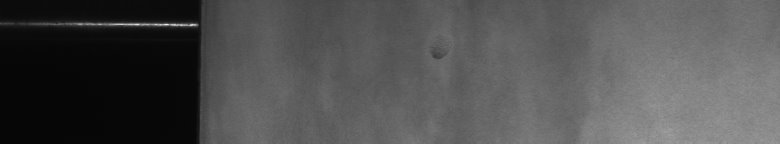fi: (428, 48, 448, 66)
